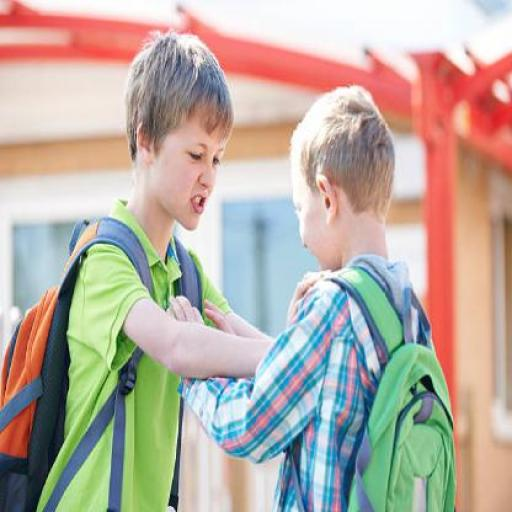Fighting: (1, 34, 461, 512)
